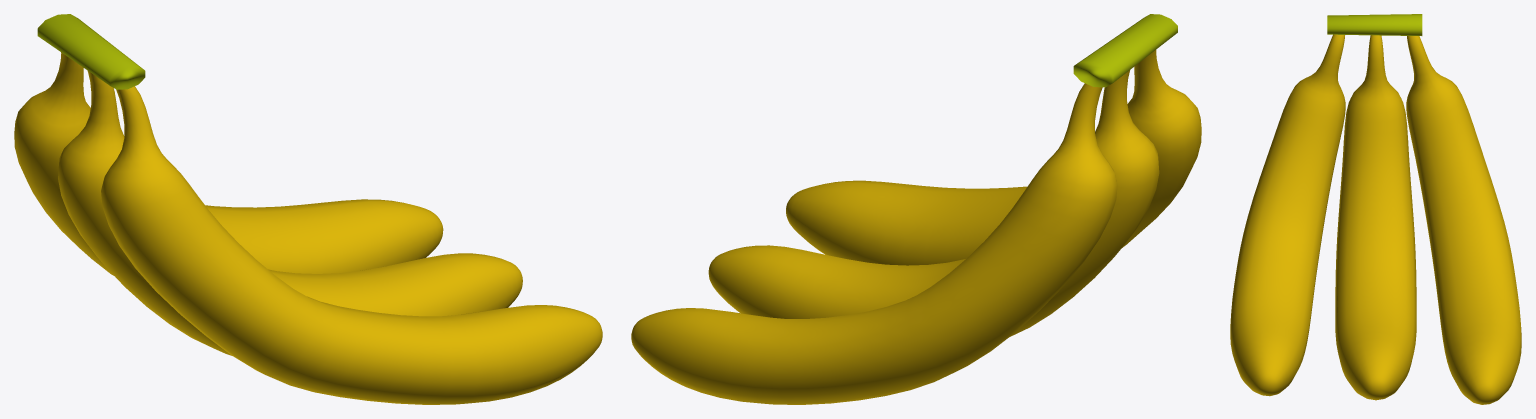
File: banana.fbx
3 renders of one model, left to right at view 1: azimuth 30°, elevation 25°; view 2: azimuth 150°, elevation 25°; view 3: azimuth 270°, elevation 25°, orthographic. The views are drawn at different scales.
Parts seen in each view (by area): view 1: 立方体.002, 立方体.001, 立方体, 円柱; view 2: 立方体.001, 立方体.002, 立方体, 円柱; view 3: 立方体.001, 立方体.002, 立方体, 円柱.
Part boxes in pixels (x1=…): 立方体.002: x1=101, y1=86, x2=602, y2=404; 立方体.001: x1=14, y1=52, x2=443, y2=275; 立方体: x1=58, y1=70, x2=522, y2=355; 円柱: x1=37, y1=14, x2=145, y2=89; 立方体.001: x1=631, y1=83, x2=1117, y2=404; 立方体.002: x1=786, y1=50, x2=1201, y2=265; 立方体: x1=708, y1=70, x2=1159, y2=336; 円柱: x1=1073, y1=14, x2=1177, y2=87; 立方体.001: x1=1406, y1=36, x2=1521, y2=404; 立方体.002: x1=1230, y1=34, x2=1345, y2=396; 立方体: x1=1335, y1=35, x2=1416, y2=400; 円柱: x1=1327, y1=14, x2=1422, y2=35.
Bounding box in the file's own units: 624 × 511 × 509.
